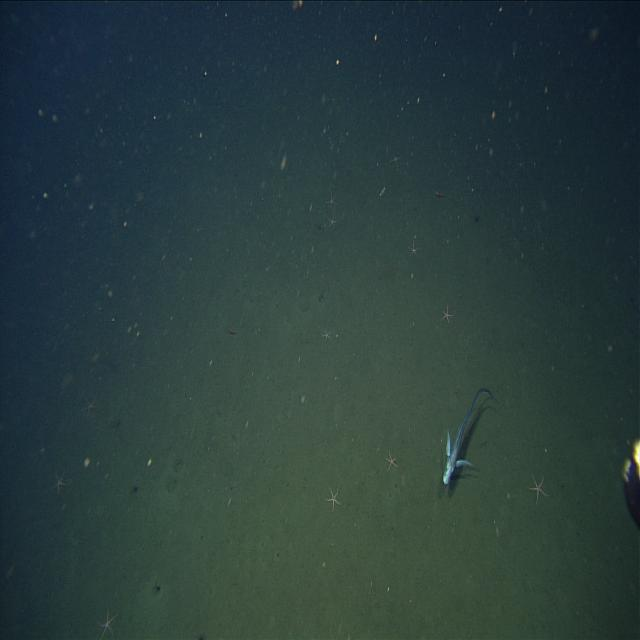Brittle Star: (527, 470, 553, 505), (436, 295, 456, 330), (381, 443, 402, 476), (324, 480, 344, 514), (51, 464, 71, 496), (404, 233, 423, 262), (318, 322, 336, 349)
Not Brittle Star: (438, 379, 497, 488)
